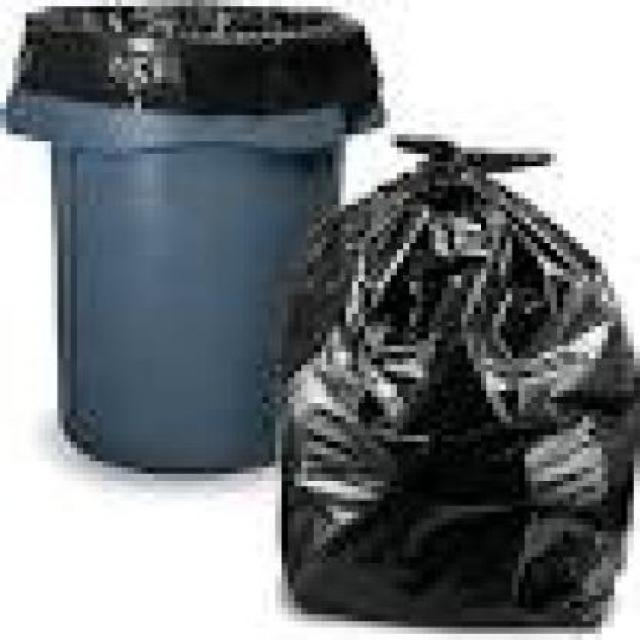garbage: (262, 115, 634, 634)
